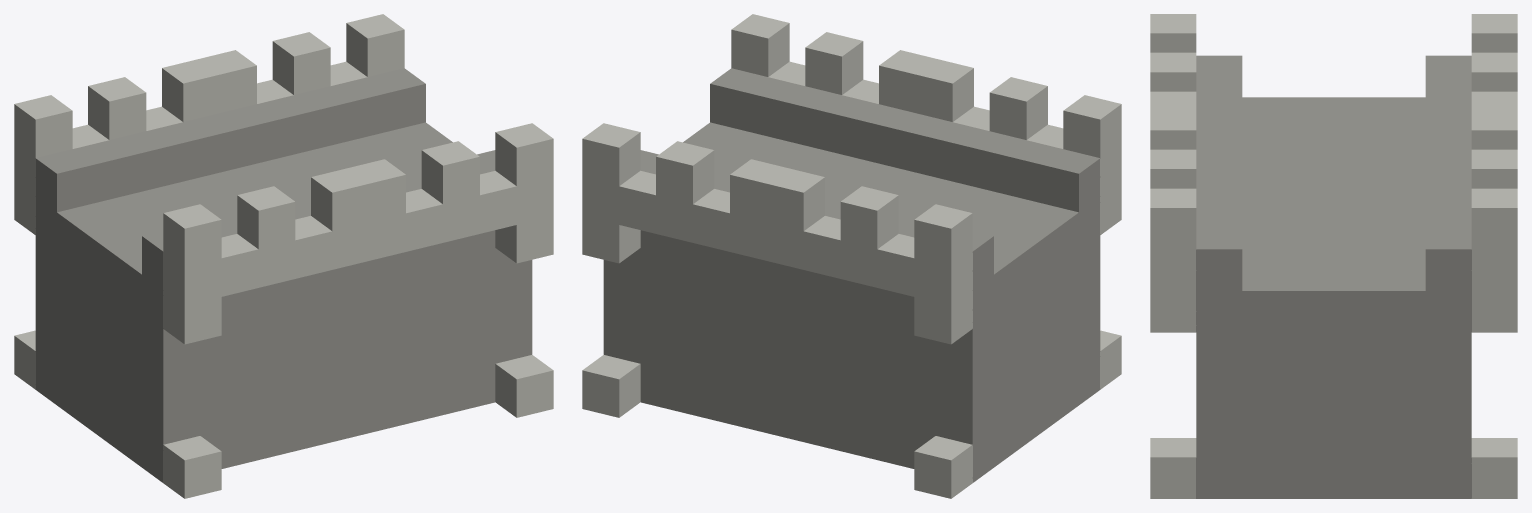
The model's file is 1x1x5_twosided.fbx.
3 views of the same model, side by side, from view 1: azimuth 30°, elevation 25°; view 2: azimuth 150°, elevation 25°; view 3: azimuth 270°, elevation 25° (orthographic). The views are drawn at different scales.
Parts seen in each view (by area): view 1: Matrix; view 2: Matrix; view 3: Matrix.
Boxes of the visible parts, x1=… form: Matrix: x1=14, y1=14, x2=553, y2=498; Matrix: x1=582, y1=14, x2=1121, y2=498; Matrix: x1=1150, y1=14, x2=1517, y2=498.
Size of the model in its own units: 10 by 7 by 8.
1 material, 1 textured.
